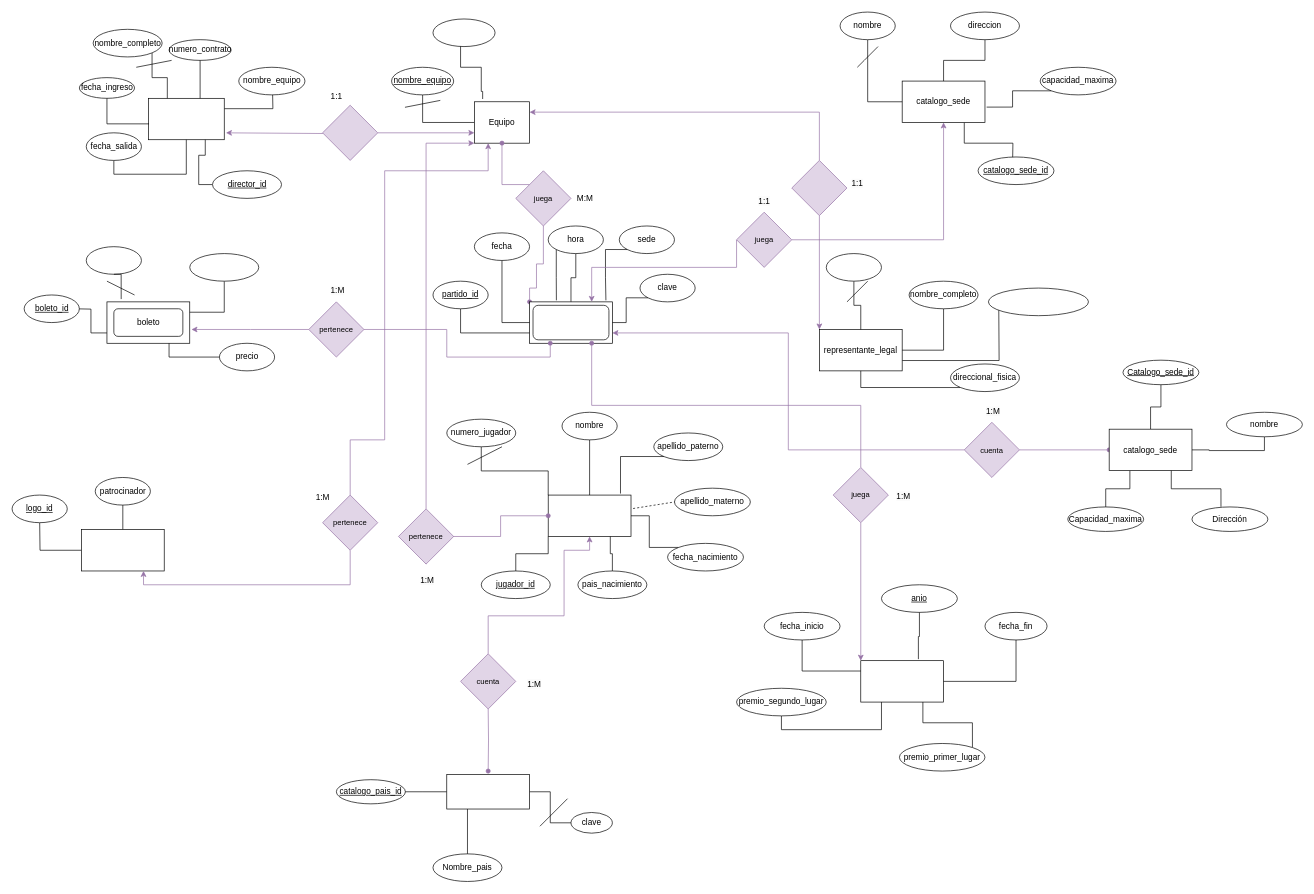
This 1314x894 diagram has some shape labels left out. The box of each missing label's shape, as (x1, y1, x2, y2) in pixels:
catalogo_pais: (446, 774, 530, 809)
Director_tecnico: (148, 98, 224, 140)
equipo_id: (432, 18, 495, 47)
folio: (86, 246, 141, 274)
jugador: (548, 494, 631, 536)
logo: (81, 529, 164, 571)
numero_asiento: (189, 253, 259, 281)
partido: (529, 301, 612, 343)
representa: (791, 160, 847, 216)
representante_legal_id: (988, 287, 1088, 316)
rfc: (826, 253, 881, 281)
temporada: (860, 660, 944, 702)
tiene: (322, 105, 378, 160)
